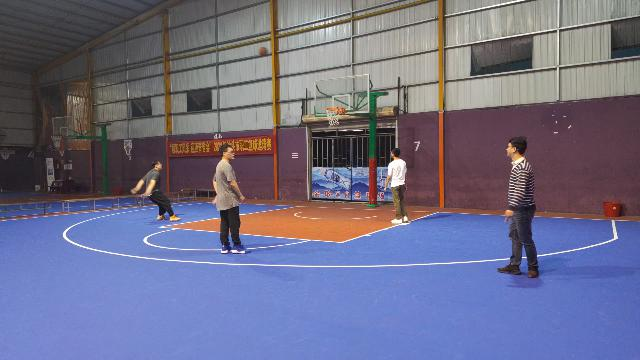ball: (259, 46, 267, 55)
basket: (325, 107, 343, 123)
